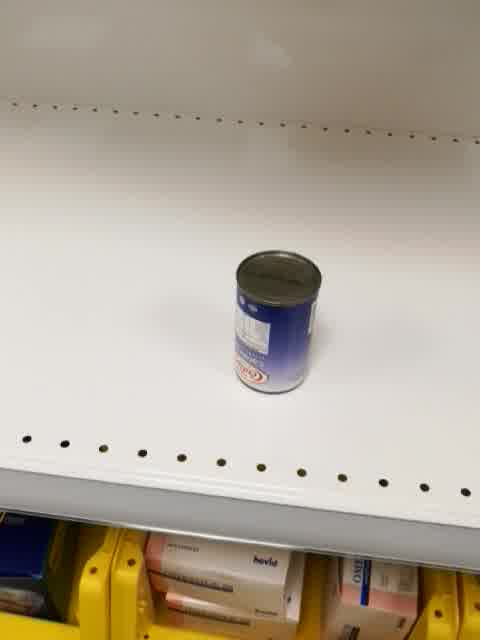sardine: (232, 250, 324, 395)
